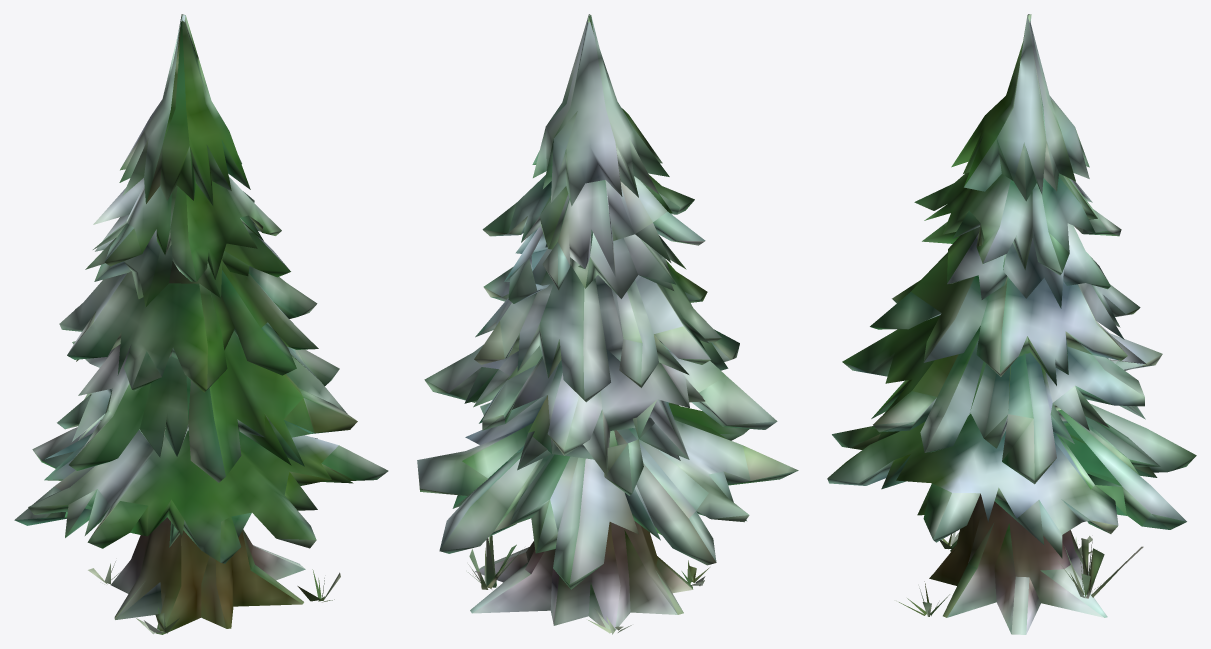
File: world-sapling.glb
3 renders of one model, left to right at view 1: azimuth 30°, elevation 25°; view 2: azimuth 150°, elevation 25°; view 3: azimuth 270°, elevation 25°, orthographic. The views are drawn at different scales.
Parts seen in each view (by area): view 1: model; view 2: model; view 3: model.
Boxes of the visible parts, x1=… form: model: x1=14, y1=14, x2=388, y2=634; model: x1=417, y1=14, x2=798, y2=634; model: x1=827, y1=14, x2=1196, y2=634.
Bounding box in the file's own units: 1.66 × 2.9 × 1.72.
Materials: 1 (1 with a texture image).
